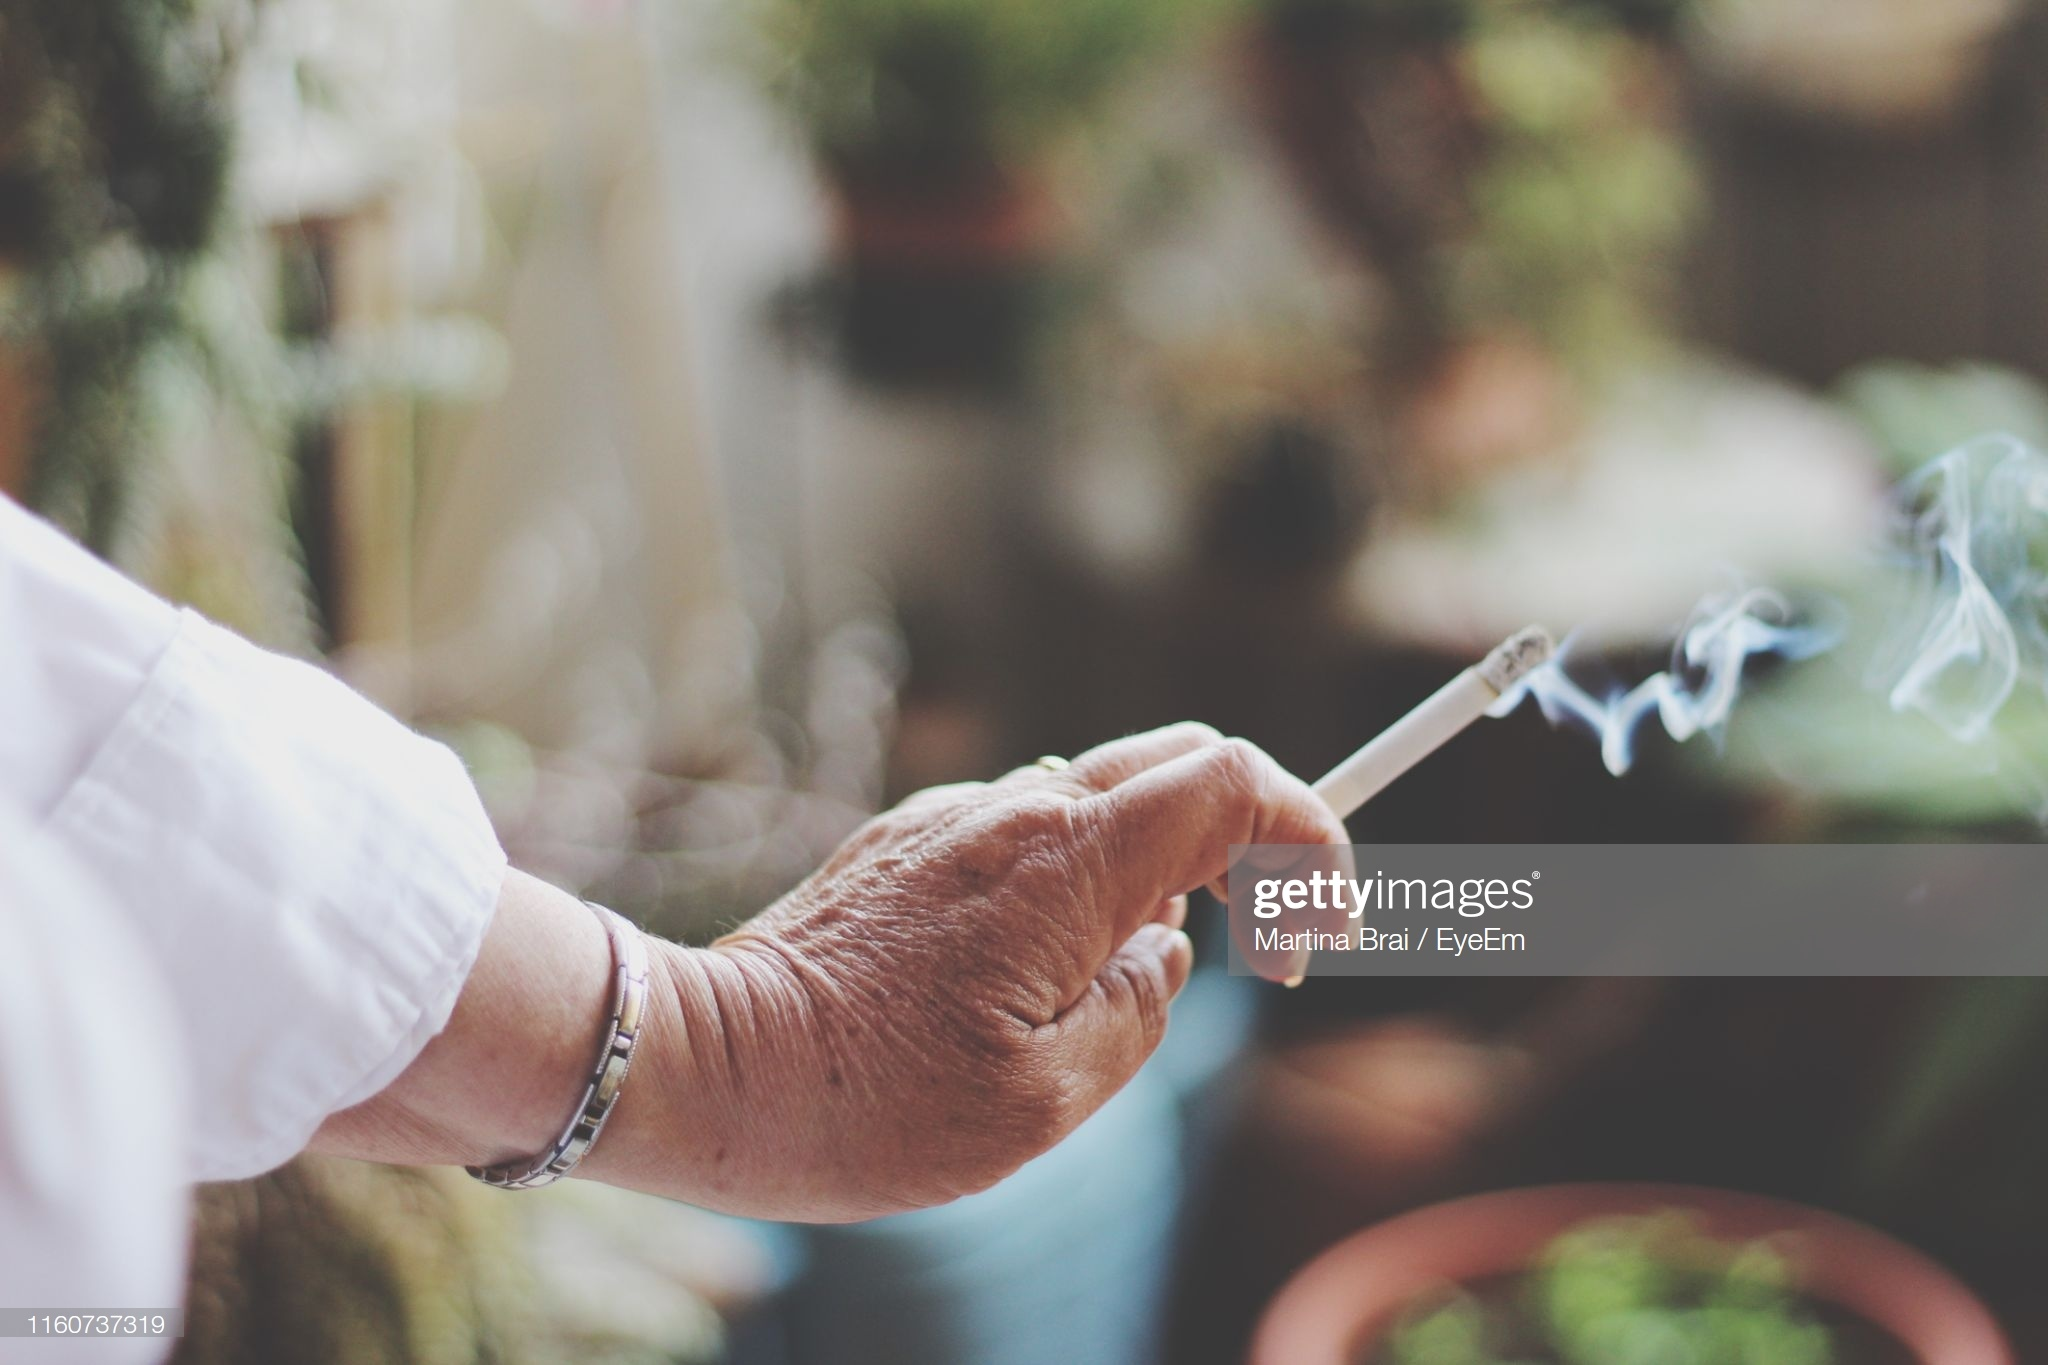sigaretta: (1276, 649, 1556, 874)
